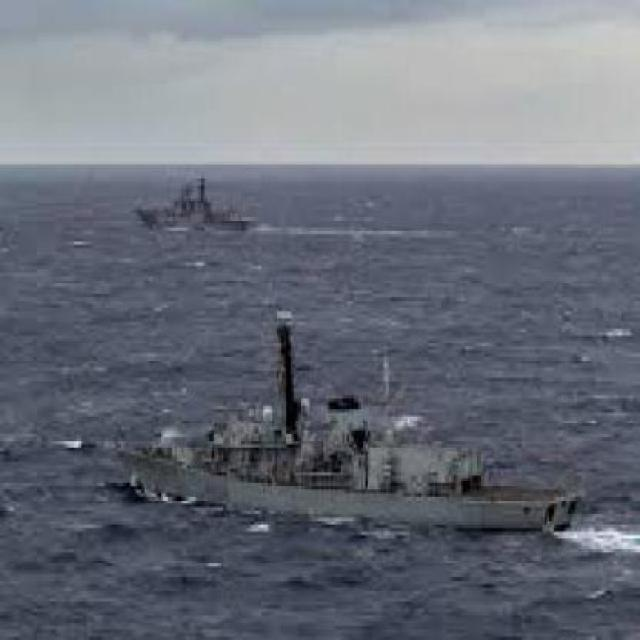warship2: (101, 312, 587, 547)
